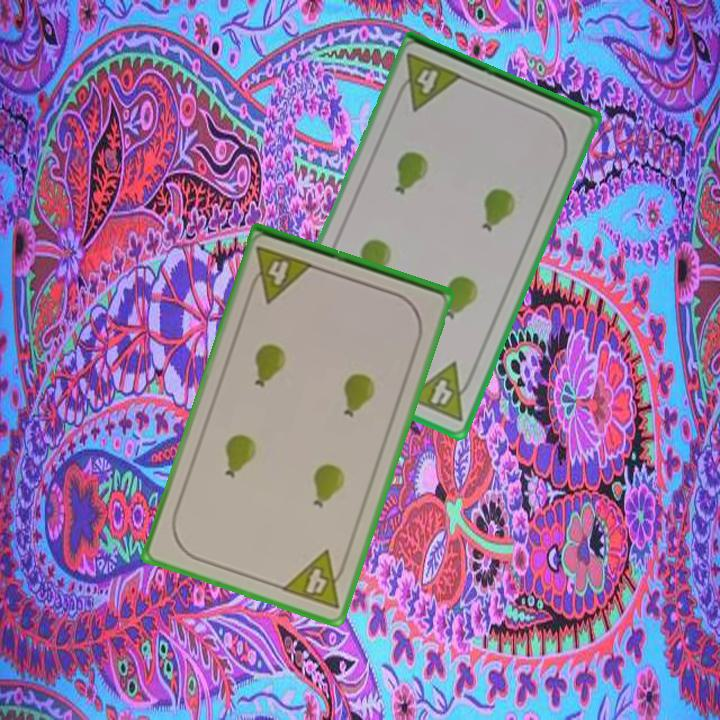4p: (403, 358, 479, 425), (278, 547, 352, 613), (391, 50, 467, 114), (244, 242, 316, 306)
